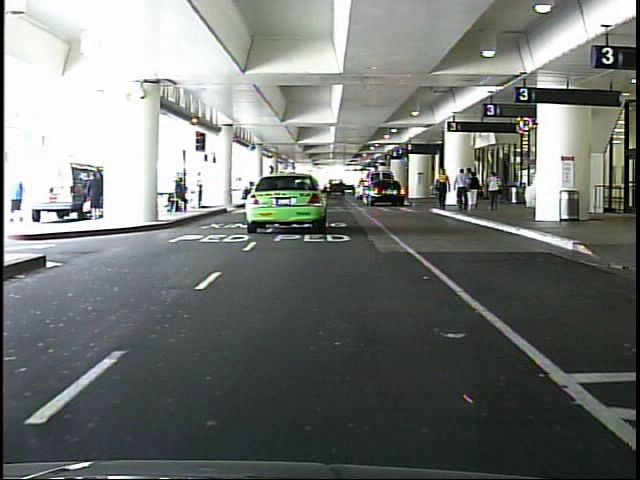person: (482, 169, 505, 218), (430, 166, 452, 215), (87, 170, 108, 220), (452, 167, 473, 216), (467, 171, 482, 214), (195, 170, 209, 213)
